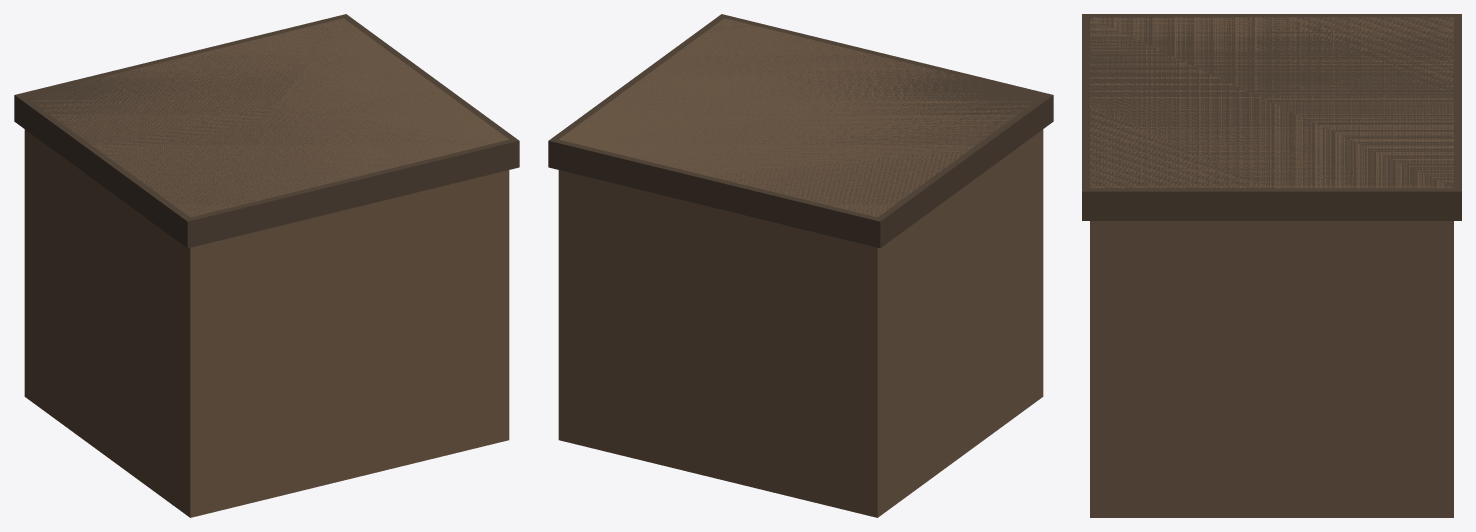
The model's file is room_crate_seat.glb.
The picture shows the model from 3 angles, left to right: view 1: azimuth 30°, elevation 25°; view 2: azimuth 150°, elevation 25°; view 3: azimuth 270°, elevation 25°; orthographic projection. The views are drawn at different scales.
Parts seen in each view (by area): view 1: room_crate_seat; view 2: room_crate_seat; view 3: room_crate_seat.
Boxes of the visible parts, <box> form: room_crate_seat: <box>14,14,519,517</box>; room_crate_seat: <box>548,14,1053,517</box>; room_crate_seat: <box>1082,14,1461,517</box>.
Bounding box in the file's own units: 0.52 × 0.45 × 0.47.
